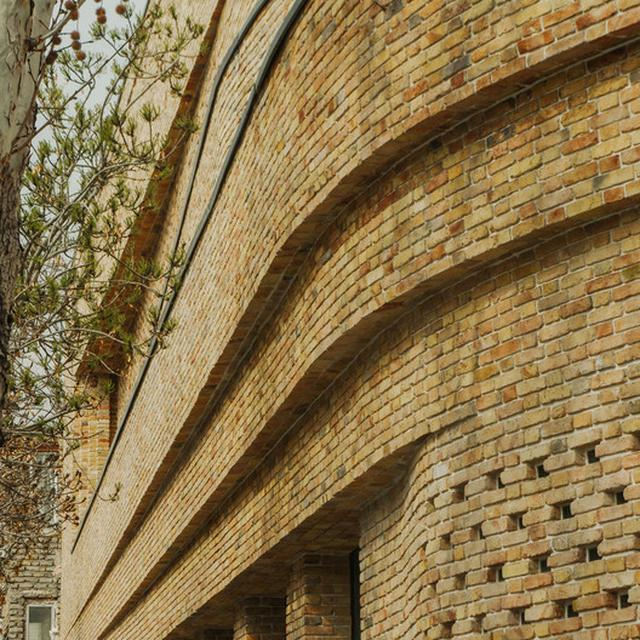building: (55, 34, 640, 640)
